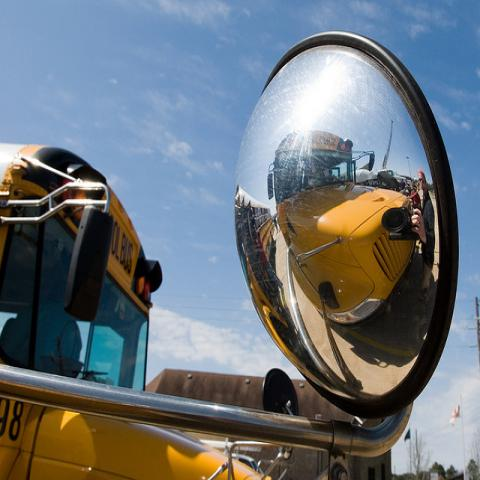bus: (0, 143, 295, 474)
truck: (0, 28, 461, 479)
